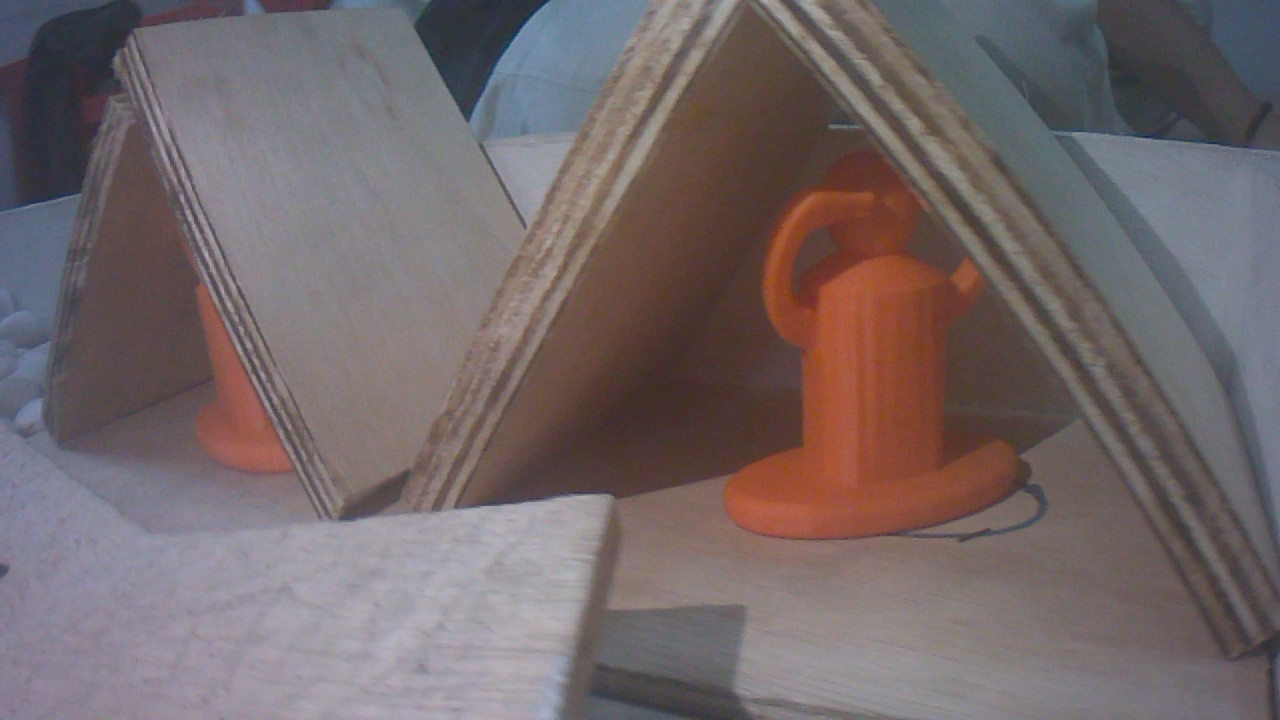real: (724, 123, 1010, 546)
